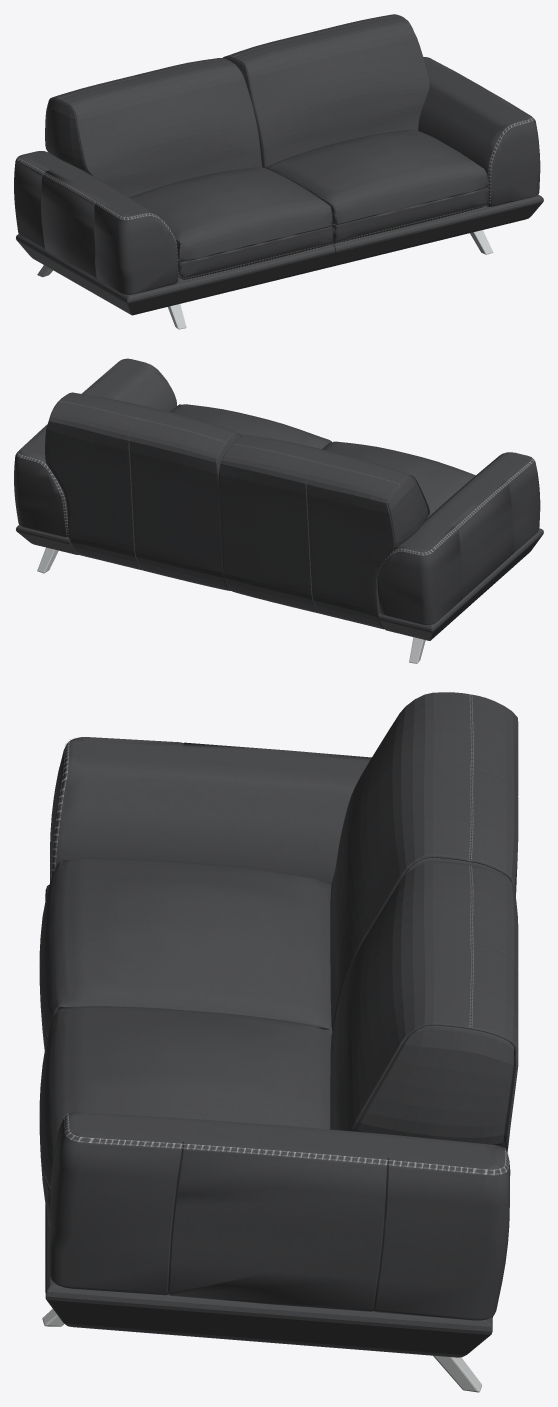
File: abo-b07hpmf4px.0f8552a971.ar.glb
3 renders of one model, top to bottom at view 1: azimuth 30°, elevation 25°; view 2: azimuth 150°, elevation 25°; view 3: azimuth 270°, elevation 25°, orthographic. The views are drawn at different scales.
Parts seen in each view (by area): view 1: RootNode; view 2: RootNode; view 3: RootNode.
Boxes of the visible parts, x1,y1,x2,y2 form: RootNode: (14, 14, 543, 329); RootNode: (14, 358, 543, 663); RootNode: (39, 692, 518, 1392).
Bounding box in the file's own units: 1.88 × 0.7607 × 0.929.
1 material, 1 textured.
